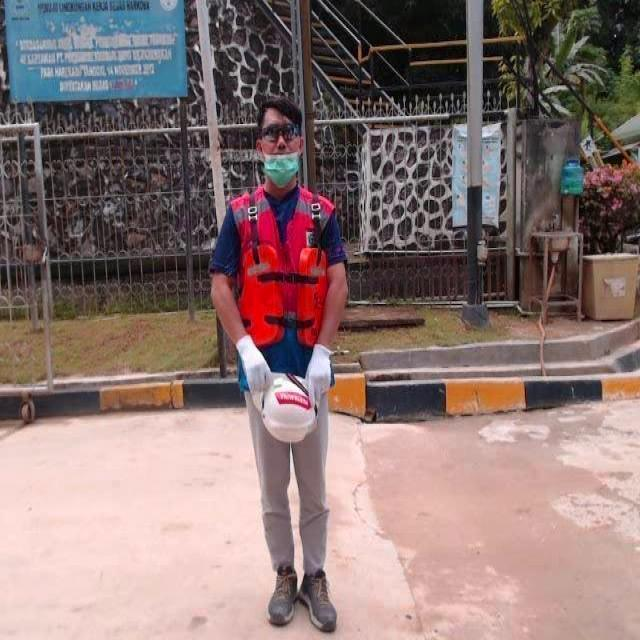vest: (229, 184, 334, 391)
